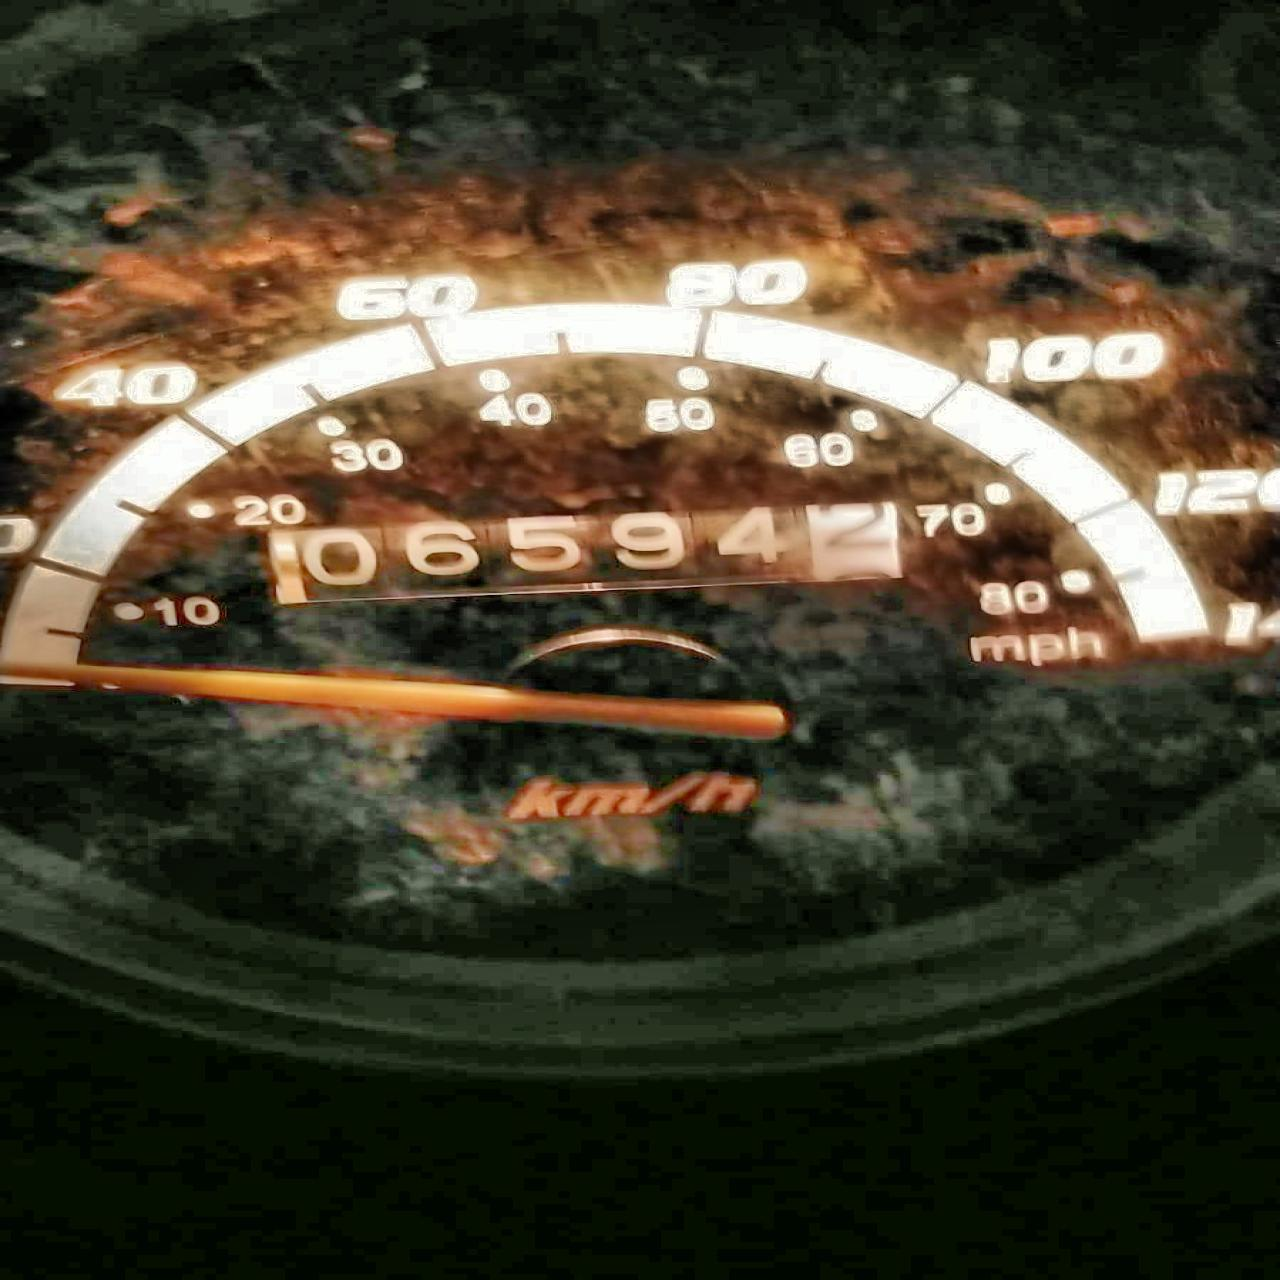0: (300, 526, 381, 587), (268, 493, 306, 524)
2: (815, 501, 892, 552)
4: (715, 504, 791, 568)
5: (502, 511, 583, 571)
6: (399, 518, 479, 576)
9: (602, 509, 688, 572)
odometer: (260, 498, 910, 607)
